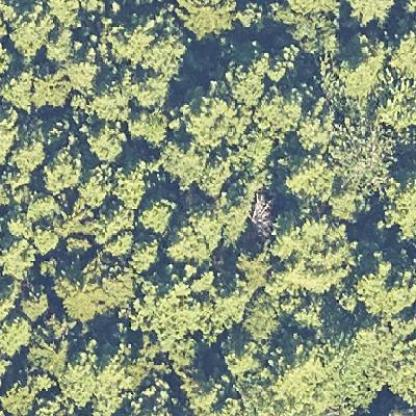tree-top: (266, 207, 360, 296), (108, 10, 185, 70), (326, 118, 393, 185), (351, 248, 415, 318), (279, 150, 339, 198), (177, 0, 243, 42), (7, 4, 54, 58), (158, 136, 204, 188), (252, 85, 300, 133), (38, 148, 84, 192), (28, 64, 74, 107), (86, 119, 130, 162), (341, 0, 401, 30), (136, 193, 178, 235), (238, 299, 279, 342), (323, 184, 365, 224), (107, 164, 146, 207), (90, 81, 129, 123), (0, 310, 34, 358), (130, 69, 168, 111), (74, 164, 111, 207), (18, 285, 52, 321), (127, 236, 160, 272), (28, 223, 59, 254)
